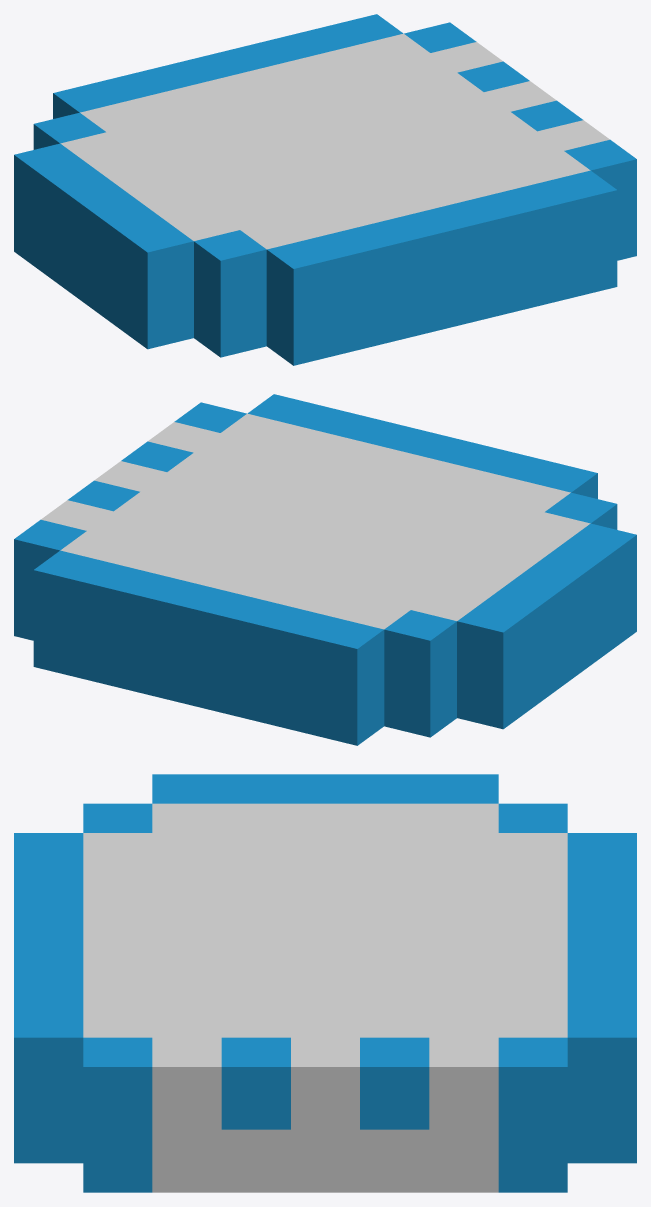
File: Platform.fbx
3 renders of one model, top to bottom at view 1: azimuth 30°, elevation 25°; view 2: azimuth 150°, elevation 25°; view 3: azimuth 270°, elevation 25°, orthographic. The views are drawn at different scales.
Visible parts, largest first — view 1: Matrix_13; view 2: Matrix_13; view 3: Matrix_13.
Part boxes in pixels (bbox=[...]): Matrix_13: bbox=[14, 14, 636, 365]; Matrix_13: bbox=[14, 394, 636, 745]; Matrix_13: bbox=[14, 774, 636, 1192].
Bounding box in the file's own units: 10 × 2 × 9.
